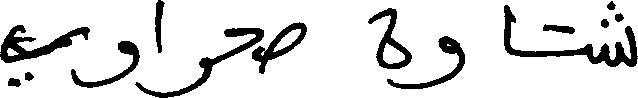X: (0, 20, 87, 92), (164, 0, 211, 97), (371, 3, 411, 93), (588, 0, 637, 71), (89, 24, 137, 92), (413, 31, 465, 93), (225, 23, 261, 78), (268, 17, 306, 64), (156, 0, 162, 97), (502, 0, 510, 59)
